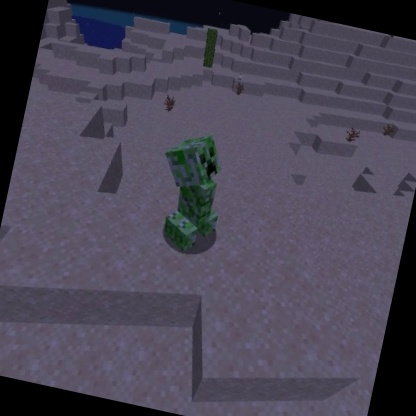creeper: (142, 122, 238, 262)
